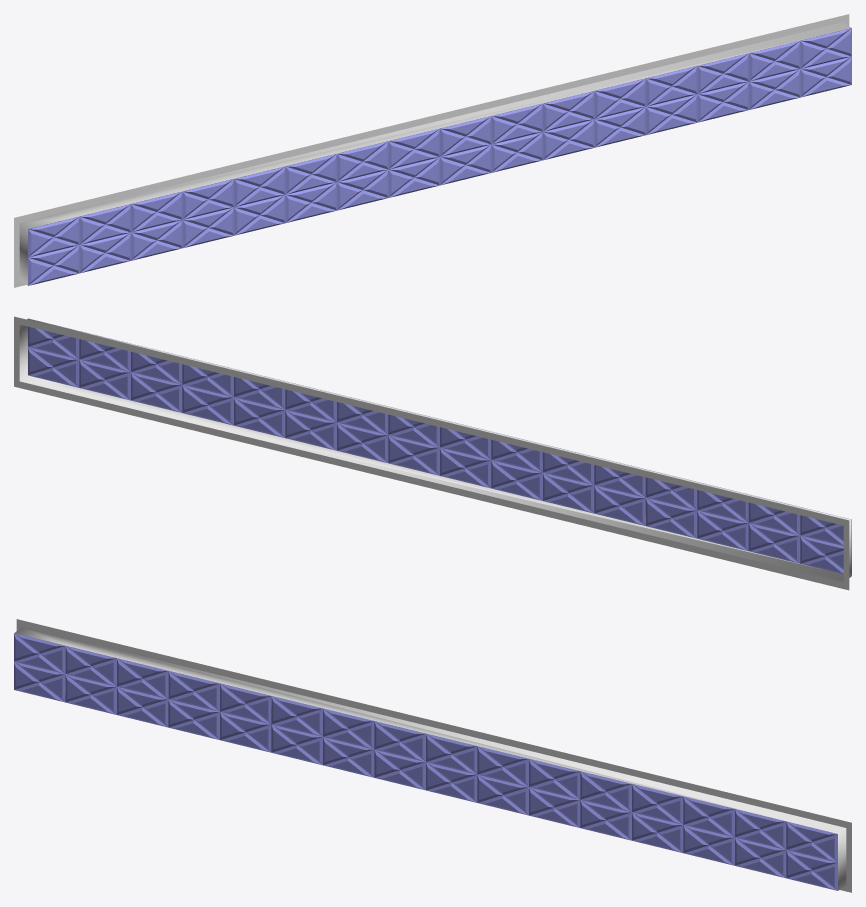
File: MosiacWindow.fbx
3 renders of one model, top to bottom at view 1: azimuth 30°, elevation 25°; view 2: azimuth 150°, elevation 25°; view 3: azimuth 330°, elevation 25°, orthographic.
Visible parts, largest first — view 1: MosiacWindow; view 2: MosiacWindow; view 3: MosiacWindow.
Part boxes in pixels (<box>): MosiacWindow: <box>14,14,851,287</box>; MosiacWindow: <box>14,316,851,590</box>; MosiacWindow: <box>14,619,851,892</box>.
Bounding box in the file's own units: 1888 × 152 × 35.94.
